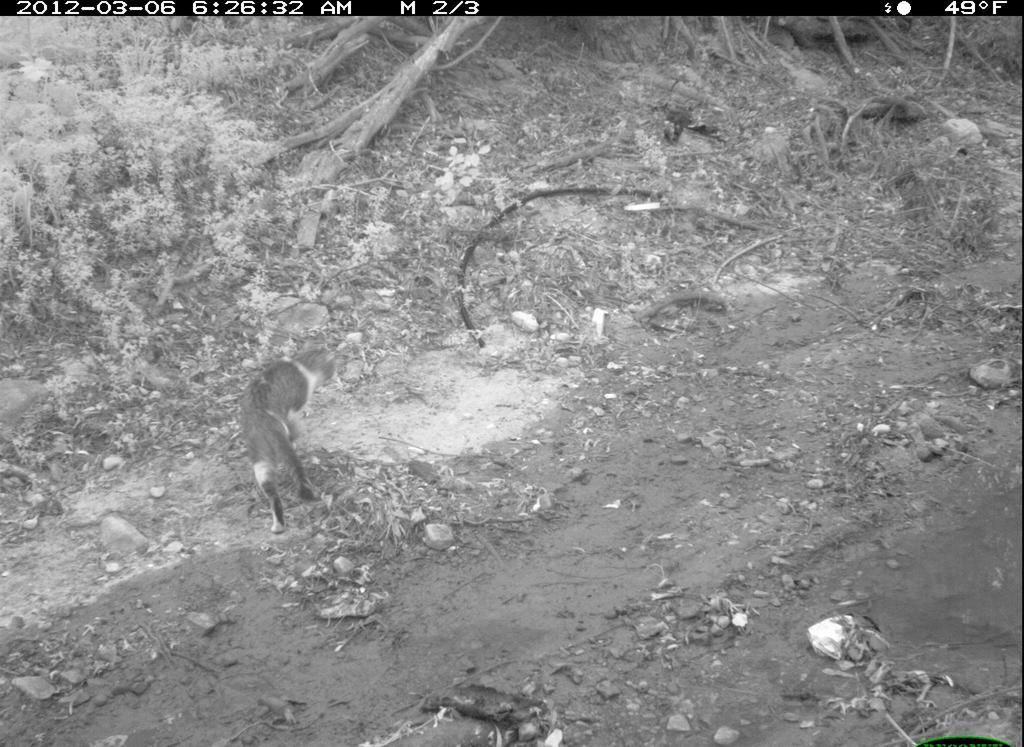cat: (232, 327, 358, 548)
